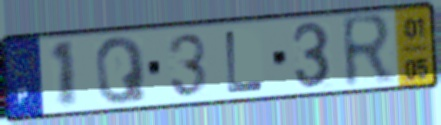1: (48, 38, 78, 112)
3: (291, 19, 335, 92), (166, 32, 210, 98)
L: (223, 28, 267, 96)
Q: (93, 34, 150, 107)
R: (339, 11, 396, 92)
